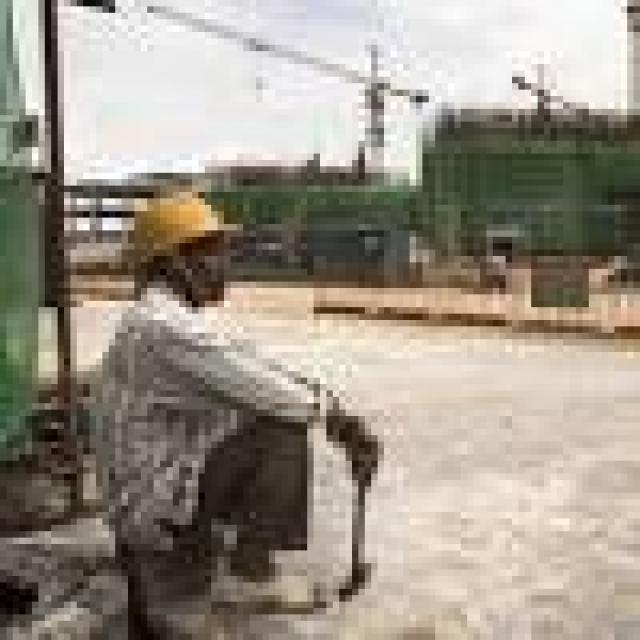Safety-Helmet: (90, 179, 262, 275)
